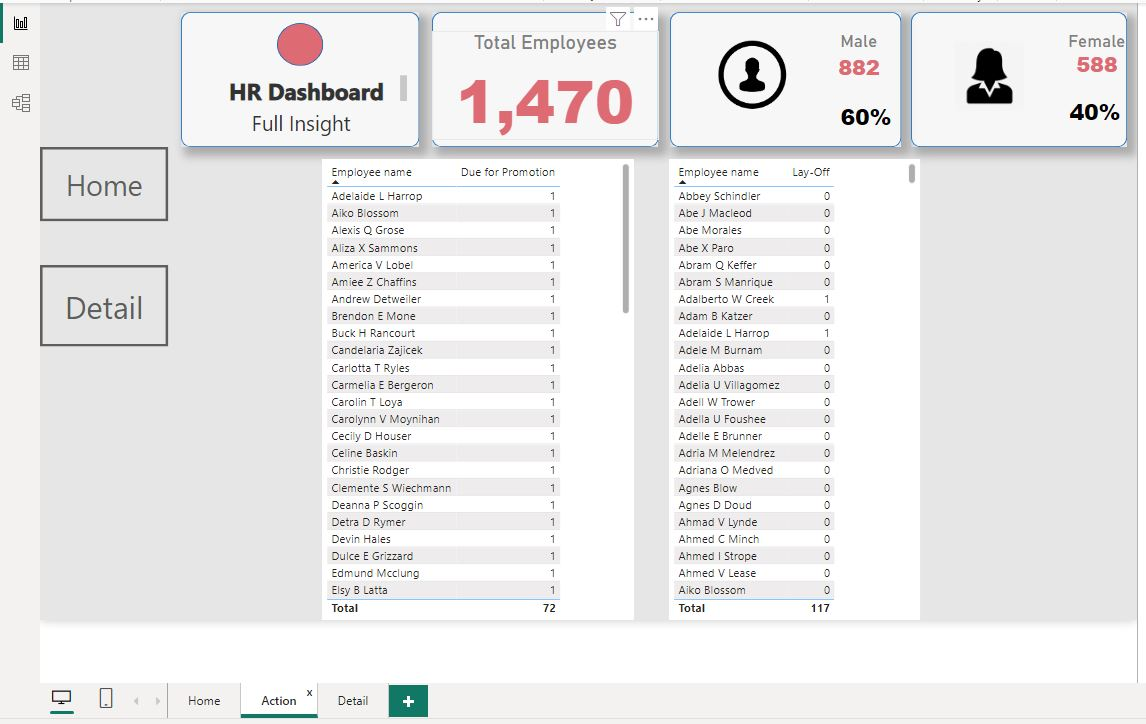

What the dashboard file says about the page in this screenshot:
{"tool":"powerbi","page":{"name":"Action","canvas":[1280,720],"ordinal":1},"visuals":[{"type":"shape","box":[164.5,11,278.2,157.6],"z":0},{"type":"shape","box":[457.7,11,264.5,157.6],"z":1000},{"type":"shape","box":[734.6,11,270,157.6],"z":2000},{"type":"shape","box":[1016.9,11,252.2,157.6],"z":3000},{"type":"textbox","box":[197.4,78.9,235.5,43.4],"z":4000},{"type":"textbox","box":[186.4,117.9,235.7,50.7],"z":5000},{"type":"shape","box":[276.3,23.7,53.9,50],"z":6000},{"type":"card","title":"Total Employees","fields":{"Values":["All Measures.Total Emp"]},"box":[457.7,32.9,264.5,127.5],"z":7000},{"type":"card","title":"Male","fields":{"Values":["All Measures.Male"]},"box":[908.6,32.9,93.2,63],"z":8000},{"type":"card","title":"Male","fields":{"Values":["All Measures.% male"]},"box":[925.1,106.9,76.7,53.4],"z":9000},{"type":"card","title":"Female","fields":{"Values":["All Measures.Female"]},"box":[1186.8,32.9,93.2,57.6],"z":10000},{"type":"card","title":"Male","fields":{"Values":["All Measures.% female"]},"box":[1192.3,101.4,76.7,53.4],"z":11000},{"type":"tableEx","fields":{"Values":["HR Analytics Data.Employee name","All Measures.Due for Promotion"]},"box":[328.9,181.6,364.5,538.2],"z":12000},{"type":"tableEx","fields":{"Values":["HR Analytics Data.Employee name","All Measures.Lay-Off"]},"box":[734.2,181.6,293.4,538.2],"z":13000},{"type":"actionButton","box":[0,168.3,149.6,86.7],"z":14000},{"type":"actionButton","box":[0,306,149.6,95.2],"z":15000},{"type":"image","box":[767.1,35.5,127.6,98.7],"z":16000},{"type":"image","box":[1059.2,38.2,96.1,93.4],"z":17000}]}

Visuals, with their boxes on the page's 1280x720 design canvas (x1, y1, x2, y2). These are canvas units, not pixel positions in the 1146x724 screenshot, which may show the page scaled, cropped or inside an application window:
shape: [164,11,443,169]
shape: [458,11,722,169]
shape: [735,11,1005,169]
shape: [1017,11,1269,169]
textbox: [197,79,433,122]
textbox: [186,118,422,169]
shape: [276,24,330,74]
"Total Employees" card: [458,33,722,160]
"Male" card: [909,33,1002,96]
"Male" card: [925,107,1002,160]
"Female" card: [1187,33,1280,90]
"Male" card: [1192,101,1269,155]
tableEx - HR Analytics Data.Employee name x All Measures.Due for Promotion: [329,182,693,720]
tableEx - HR Analytics Data.Employee name x All Measures.Lay-Off: [734,182,1028,720]
actionButton: [0,168,150,255]
actionButton: [0,306,150,401]
image: [767,36,895,134]
image: [1059,38,1155,132]
